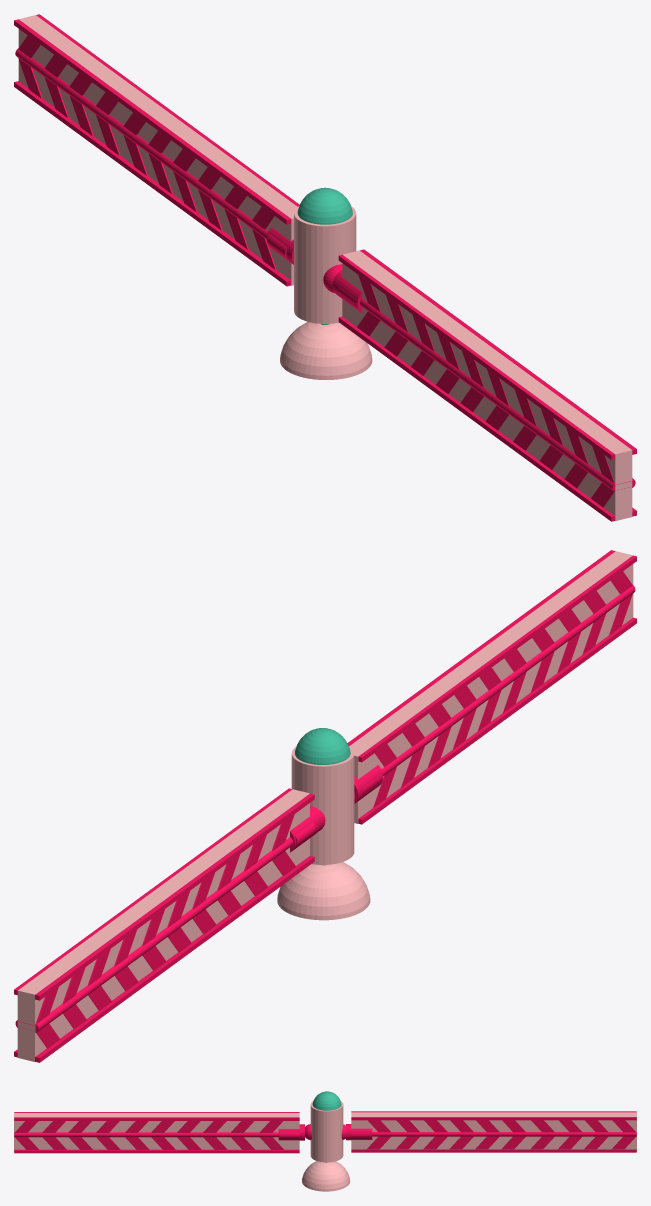
3 renders of one model, top to bottom at view 1: azimuth 30°, elevation 25°; view 2: azimuth 150°, elevation 25°; view 3: azimuth 270°, elevation 25°, orthographic. The views are drawn at different scales.
Parts seen in each view (by area): view 1: Cylinder.001; view 2: Cylinder.001; view 3: Cylinder.001.
Part boxes in pixels (bbox=[...]): Cylinder.001: bbox=[14, 14, 636, 521]; Cylinder.001: bbox=[14, 550, 636, 1062]; Cylinder.001: bbox=[14, 1091, 636, 1191].
Size of the model in its own units: 59.3 by 120 by 764.
